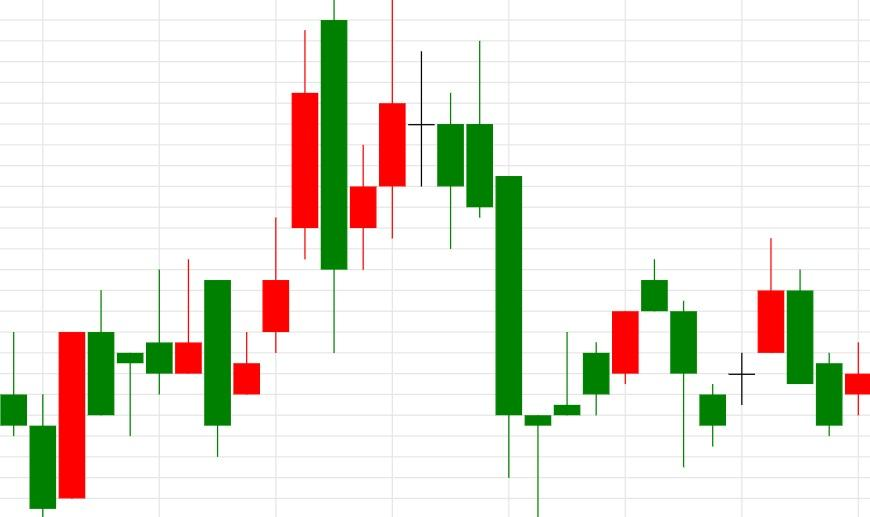bearish_engulfing_fall: (203, 0, 349, 457)
shooting_star_fall: (29, 259, 203, 516)
three_black_crows_fall: (524, 258, 727, 516)
